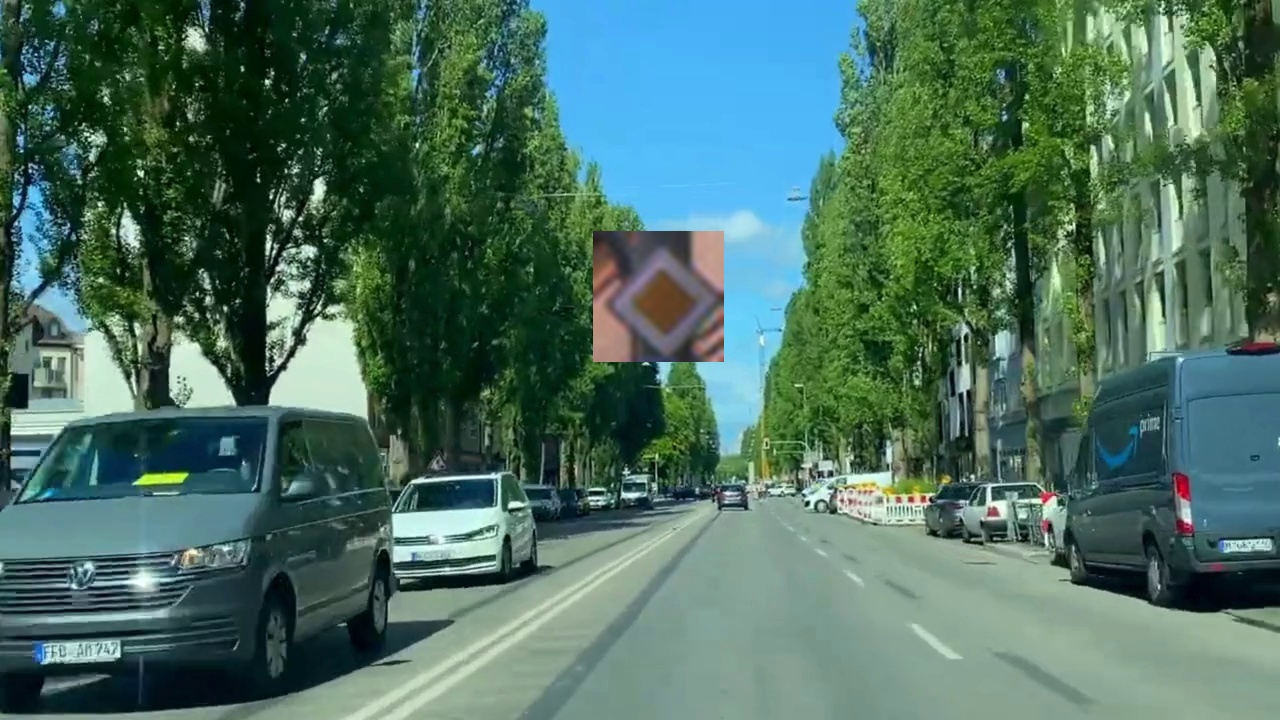Priority road: (593, 231, 724, 362)
